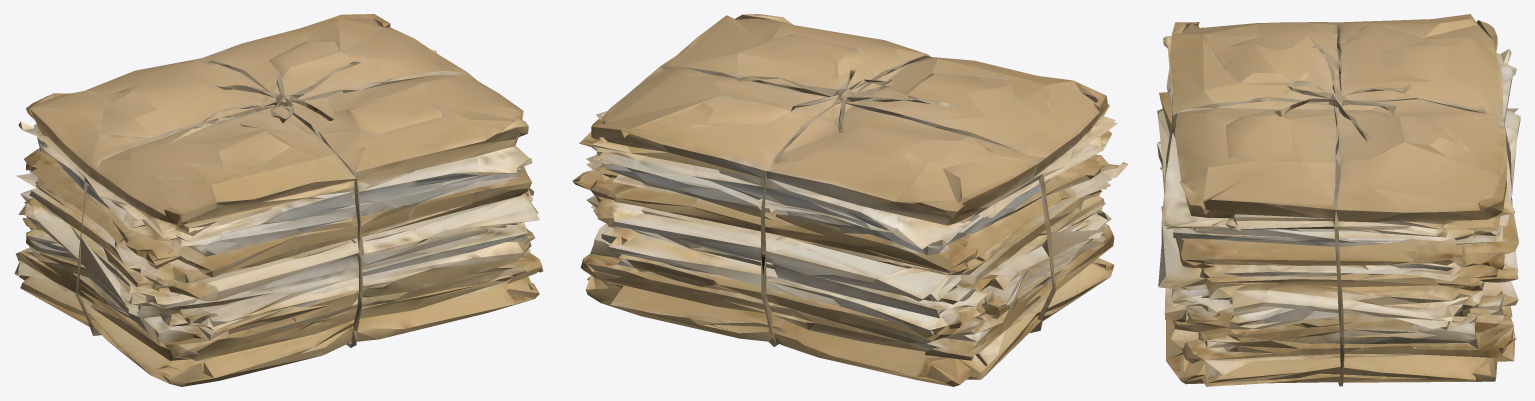
Rendered from paper_stack.84783220c6.glb.
The picture shows the model from 3 angles, left to right: view 1: azimuth 30°, elevation 25°; view 2: azimuth 150°, elevation 25°; view 3: azimuth 270°, elevation 25°; orthographic projection. The views are drawn at different scales.
Parts seen in each view (by area): view 1: paper_stack; view 2: paper_stack; view 3: paper_stack.
Part boxes in pixels (x1,y1,x2,y2): paper_stack: (14, 14, 543, 386); paper_stack: (572, 14, 1128, 386); paper_stack: (1157, 14, 1520, 386).
Bounding box in the file's own units: 0.4 × 0.1987 × 0.2952.
Materials: 1 (1 with a texture image).
